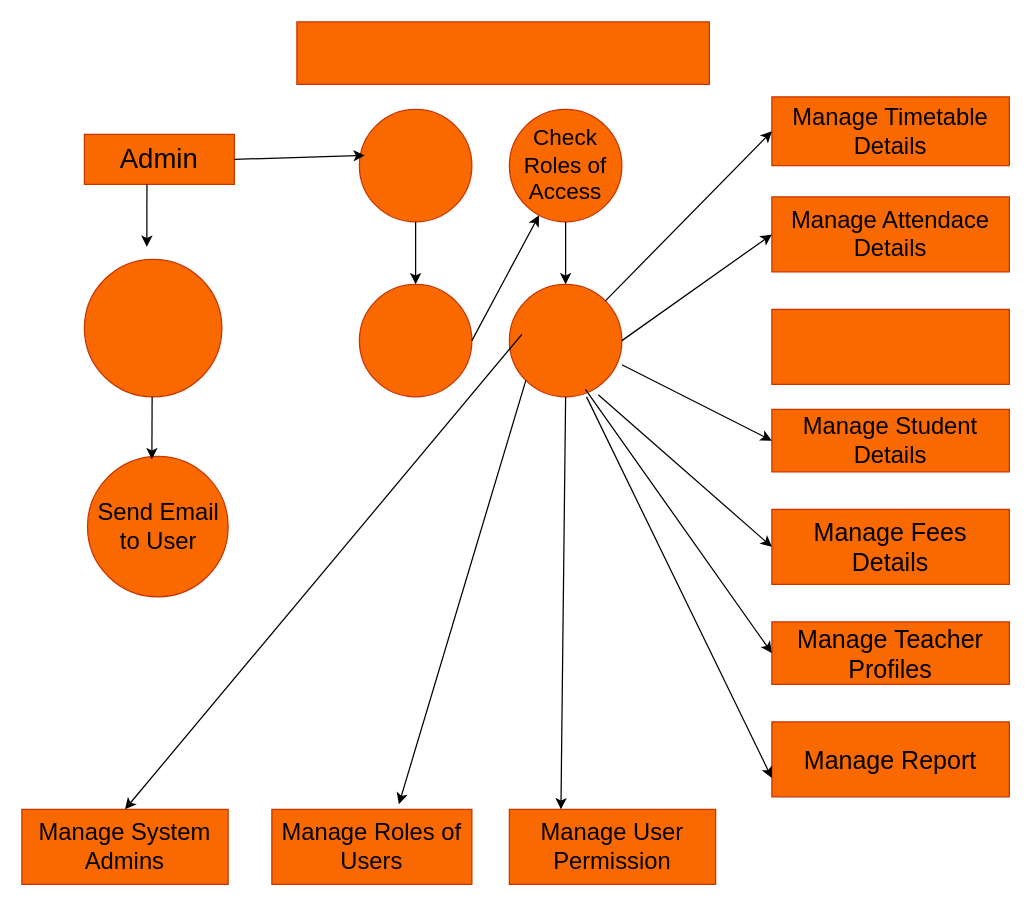
This 1031x906 diagram has some shape labels left out. Here are the shapes that lost their labels. From the top down, the centre of each, then its label:
point (502, 52): Student Information System
point (415, 165): Login to System
point (152, 327): Forgot Password
point (415, 340): Check Credentials
point (565, 340): Manage Modules
point (890, 346): Manage Class Details
